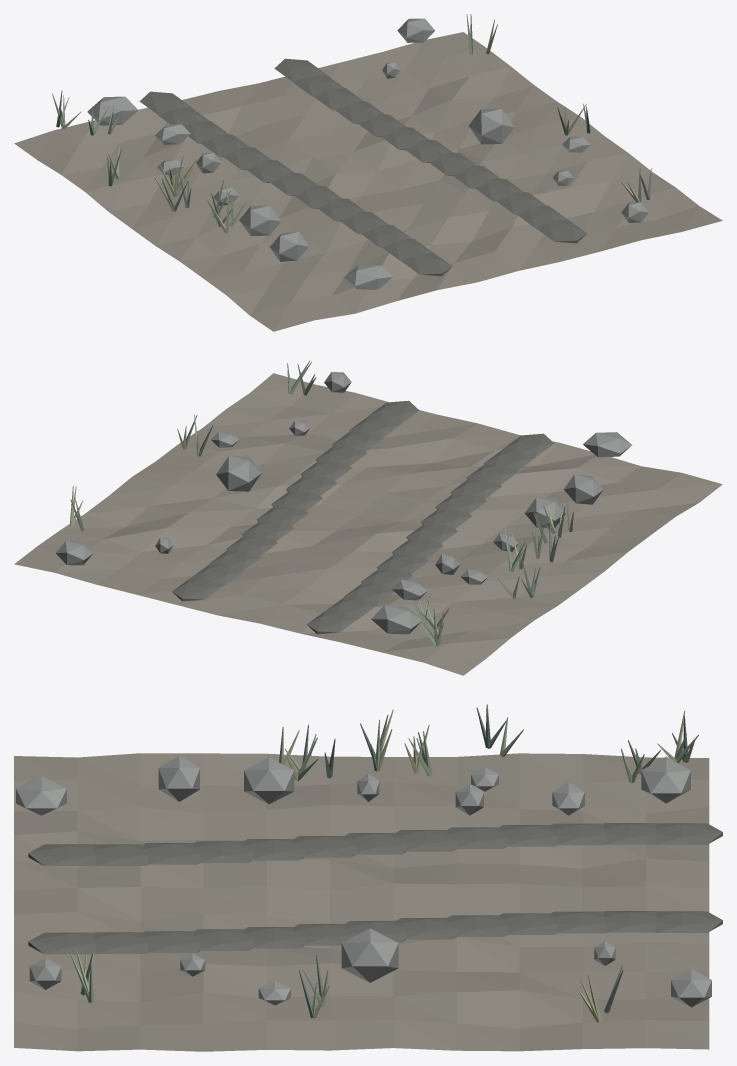
Rendered from abandoned_farm_track.glb.
The picture shows the model from 3 angles, top to bottom: view 1: azimuth 30°, elevation 25°; view 2: azimuth 150°, elevation 25°; view 3: azimuth 270°, elevation 25°; orthographic projection. The views are drawn at different scales.
Parts seen in each view (by area): view 1: material_00, material_01, material_02, material_03, material_05, material_04; view 2: material_00, material_01, material_02, material_03, material_04, material_05; view 3: material_00, material_01, material_02, material_03, material_04, material_05.
Part boxes in pixels (x1,y1,x2,y2): material_00: (14,32,722,331); material_01: (139,58,587,276); material_02: (87,18,648,289); material_03: (59,14,651,226); material_05: (52,19,639,233); material_04: (56,14,641,226); material_00: (14,373,722,675); material_01: (172,400,554,634); material_02: (55,372,631,634); material_03: (75,360,563,646); material_04: (70,364,565,646); material_05: (70,374,573,643); material_00: (14,753,709,1051); material_01: (28,823,722,954); material_02: (16,755,711,1007); material_03: (70,704,698,1017); material_04: (80,707,687,1017); material_05: (80,709,685,1022).
Size of the model in its own units: 3 by 0.3427 by 3.06.
